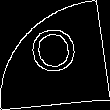O_S: (28, 26, 82, 84)
